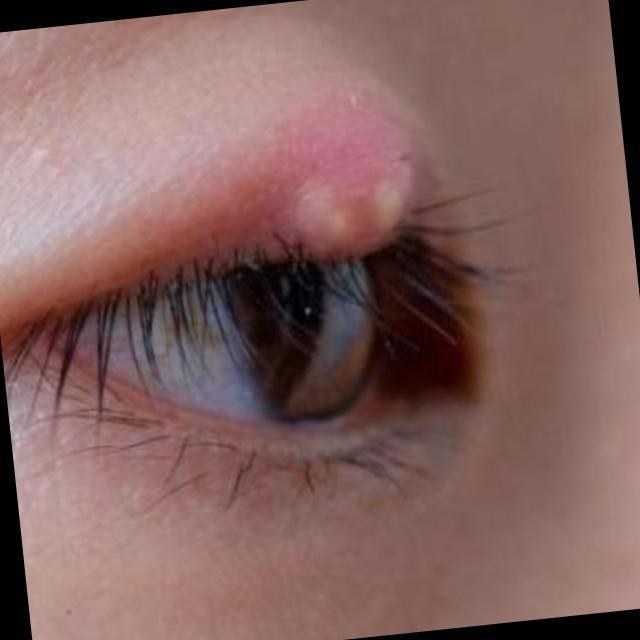Stye: (156, 116, 514, 326)
